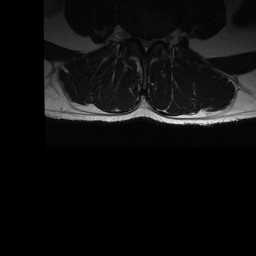CCS_stenosis: (143, 34, 148, 54)
LFS_severe_stenosis: (154, 32, 159, 46)
LLS_stenosis: (149, 35, 153, 49)
RFS_severe_stenosis: (133, 30, 139, 45)
RLS_stenosis: (139, 33, 143, 49)
